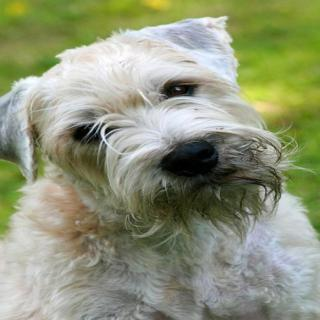dog: (0, 20, 308, 230)
nose: (152, 136, 225, 183)
